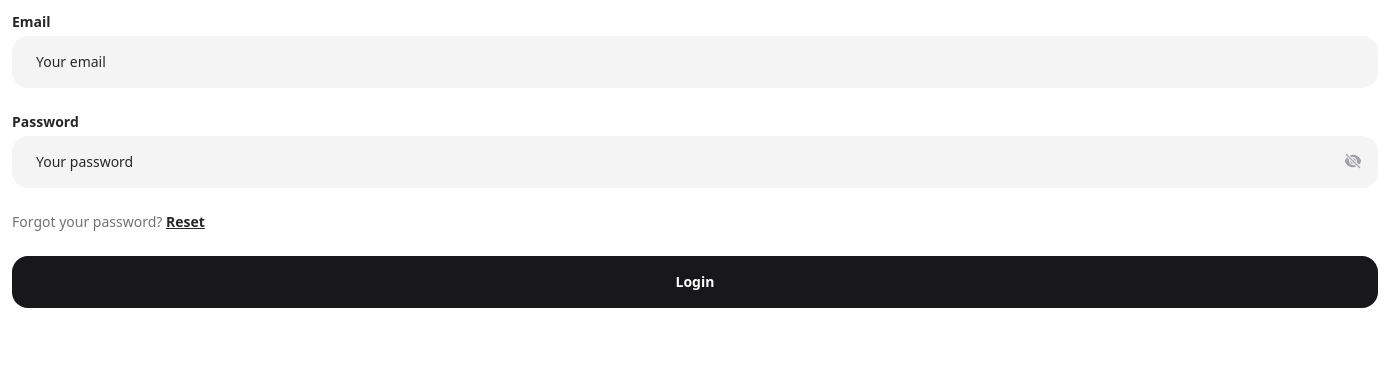
Test case: LoginForm › displays validation errors for invalid inputs
Step 1. Click the button "Login" → click(695, 282), box [12, 256, 1378, 308]
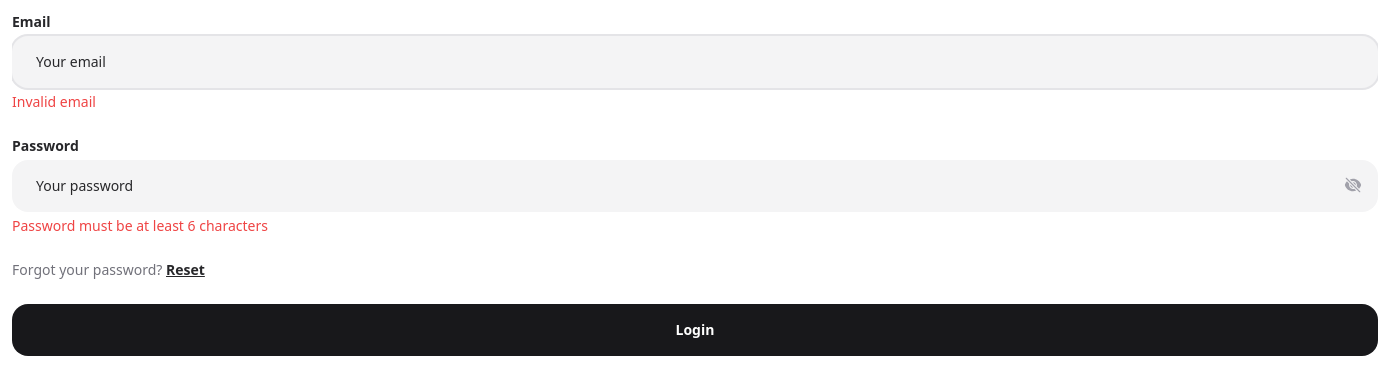
Now the text "Invalid email" is shown, box [12, 92, 96, 111]
Now the text "Password must be at least 6 characters" is shown, box [12, 216, 268, 235]
